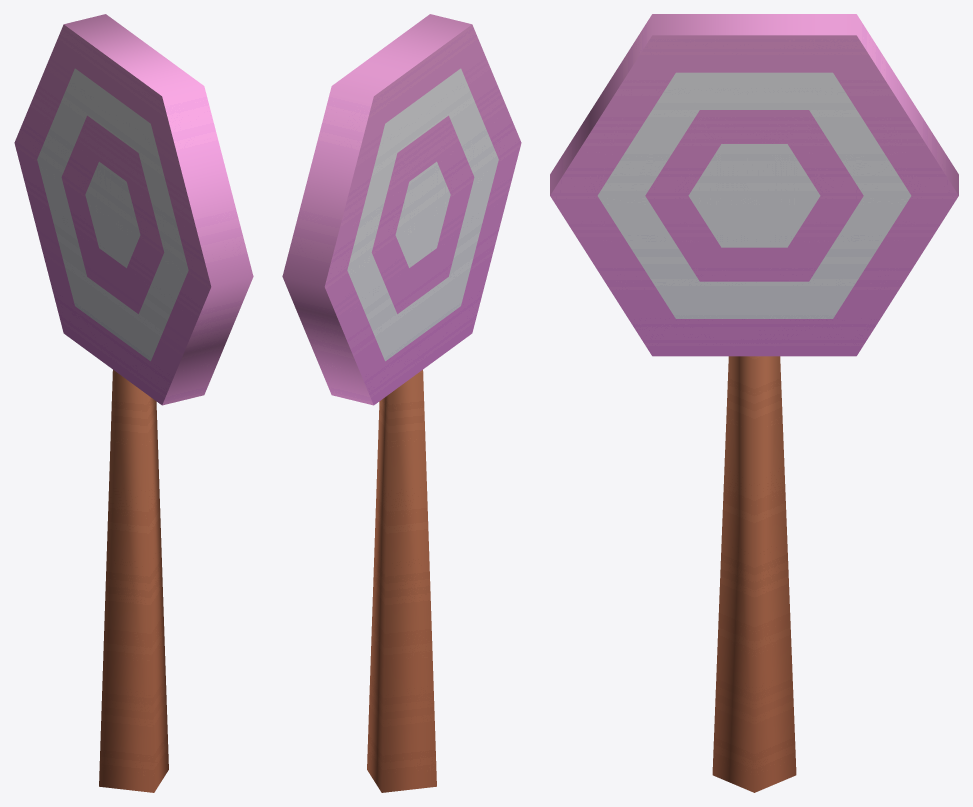
The model's file is lollypop.glb.
3 renders of one model, left to right at view 1: azimuth 30°, elevation 25°; view 2: azimuth 150°, elevation 25°; view 3: azimuth 270°, elevation 25°, orthographic. The views are drawn at different scales.
Parts seen in each view (by area): view 1: lollypop; view 2: lollypop; view 3: lollypop.
Boxes of the visible parts, box(x1,y1,x2,y2) form: lollypop: box(14, 14, 253, 792); lollypop: box(282, 14, 521, 792); lollypop: box(550, 14, 958, 792).
Bounding box in the file's own units: 0.0385 × 0.3798 × 0.1875.
Materials: 1 (1 with a texture image).
